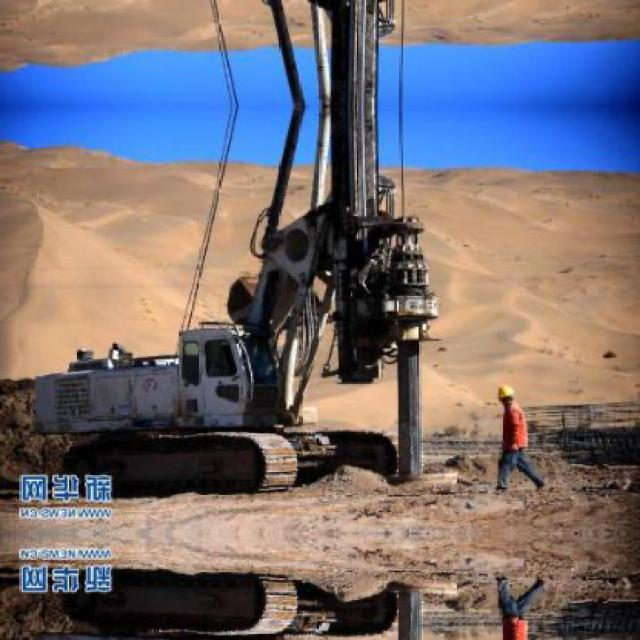con casco: (476, 349, 532, 412)
